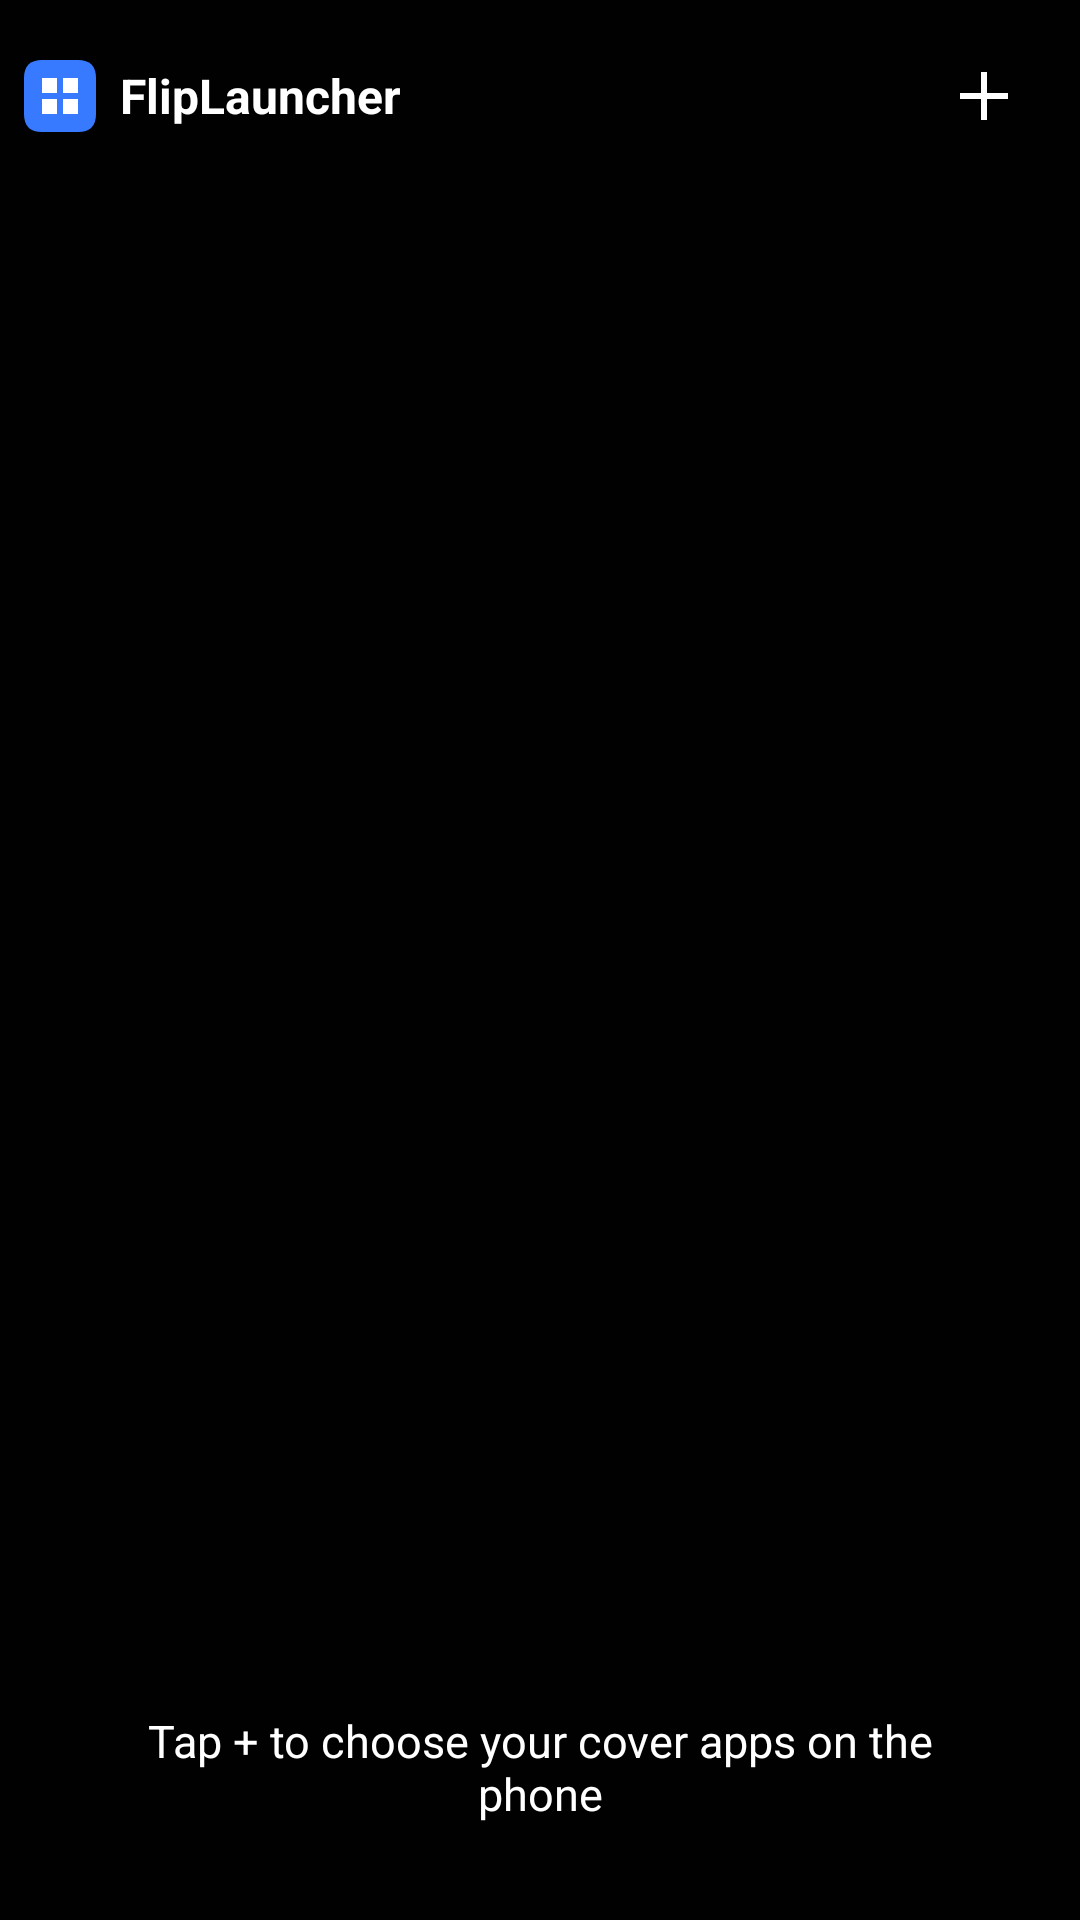

Point at icon controls on the screen. Image size 1080×1920, points as point (x, y).
widget mark: point (60, 96)
